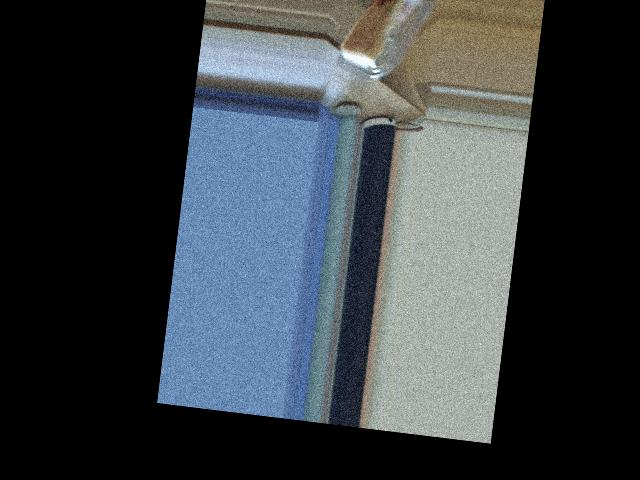cheese: (348, 13, 417, 75)
